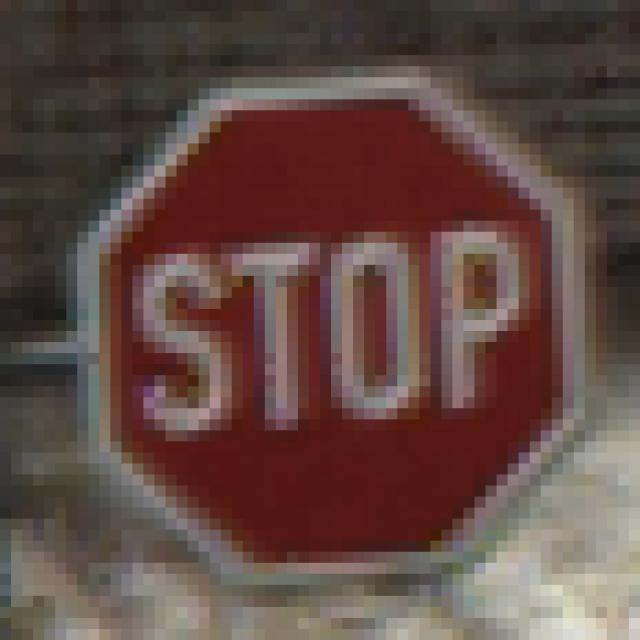STOP: (67, 67, 586, 586)
